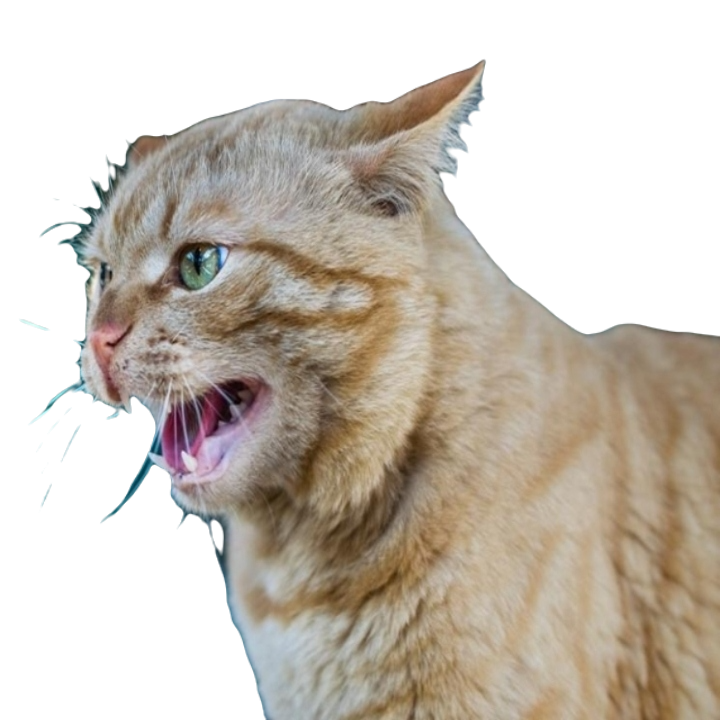Cat: (40, 69, 719, 713)
